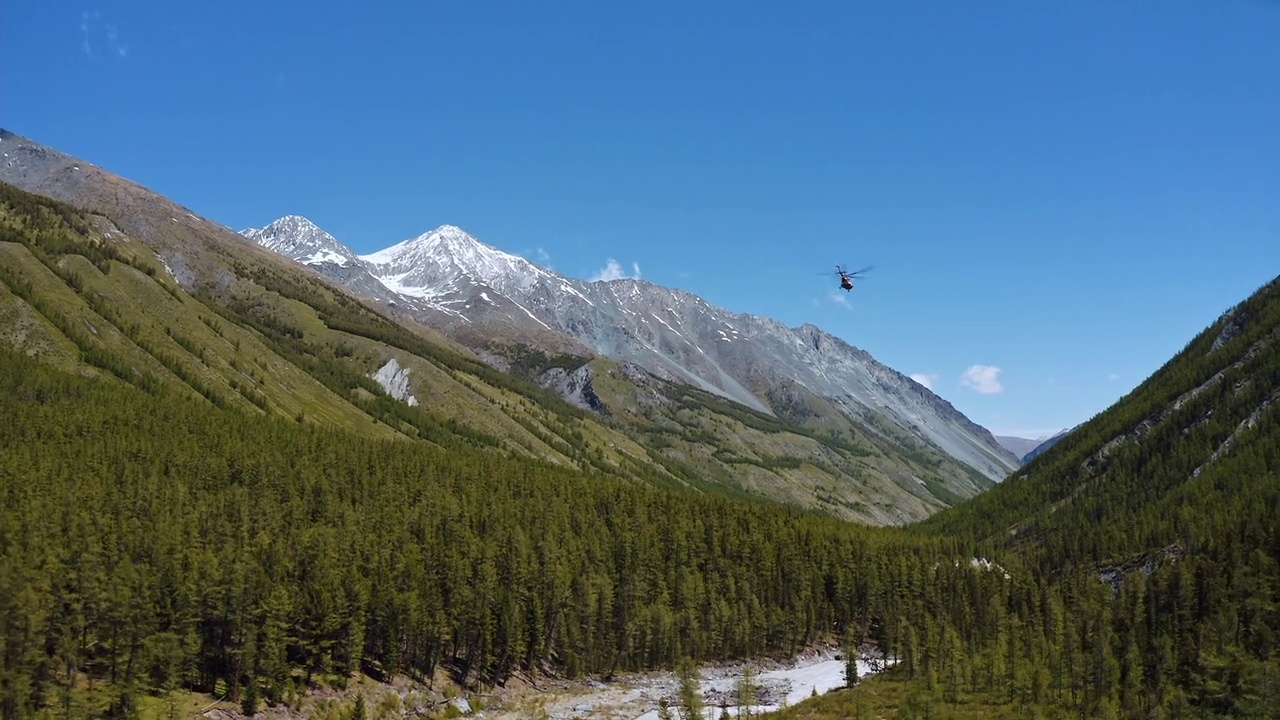heli: (817, 263, 874, 291)
